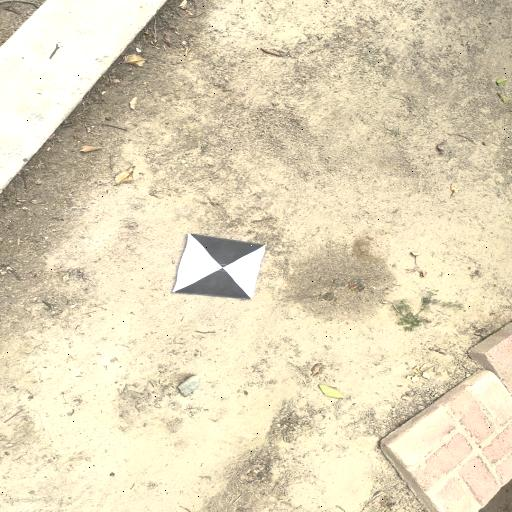target: (176, 238, 266, 298)
